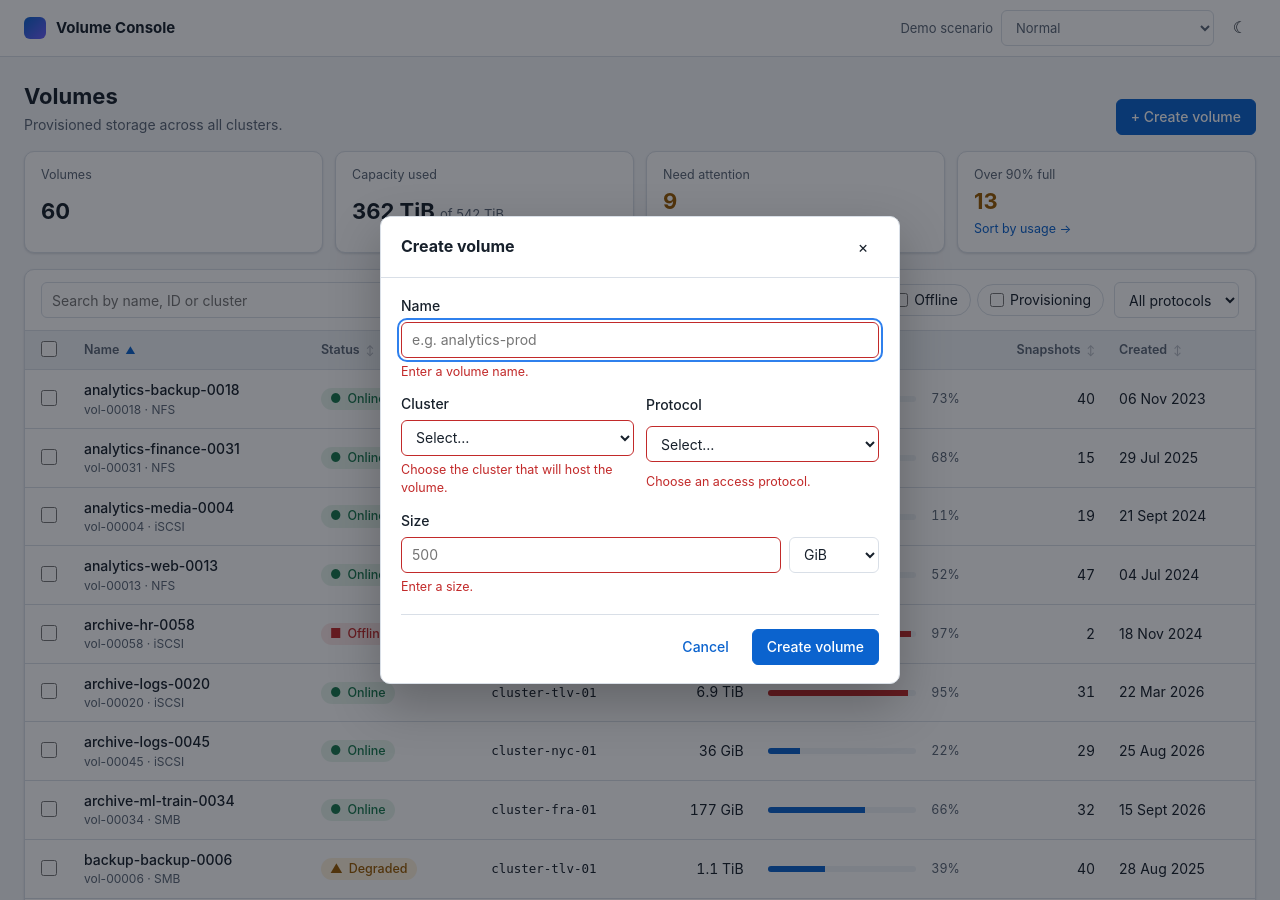
Volume Console › validates the create form, focuses the first error, then creates the volume
Earlier steps of the test are not shown.
Type "new-volume" into the field labelled "Name" at (640,340), box [401, 322, 879, 358]
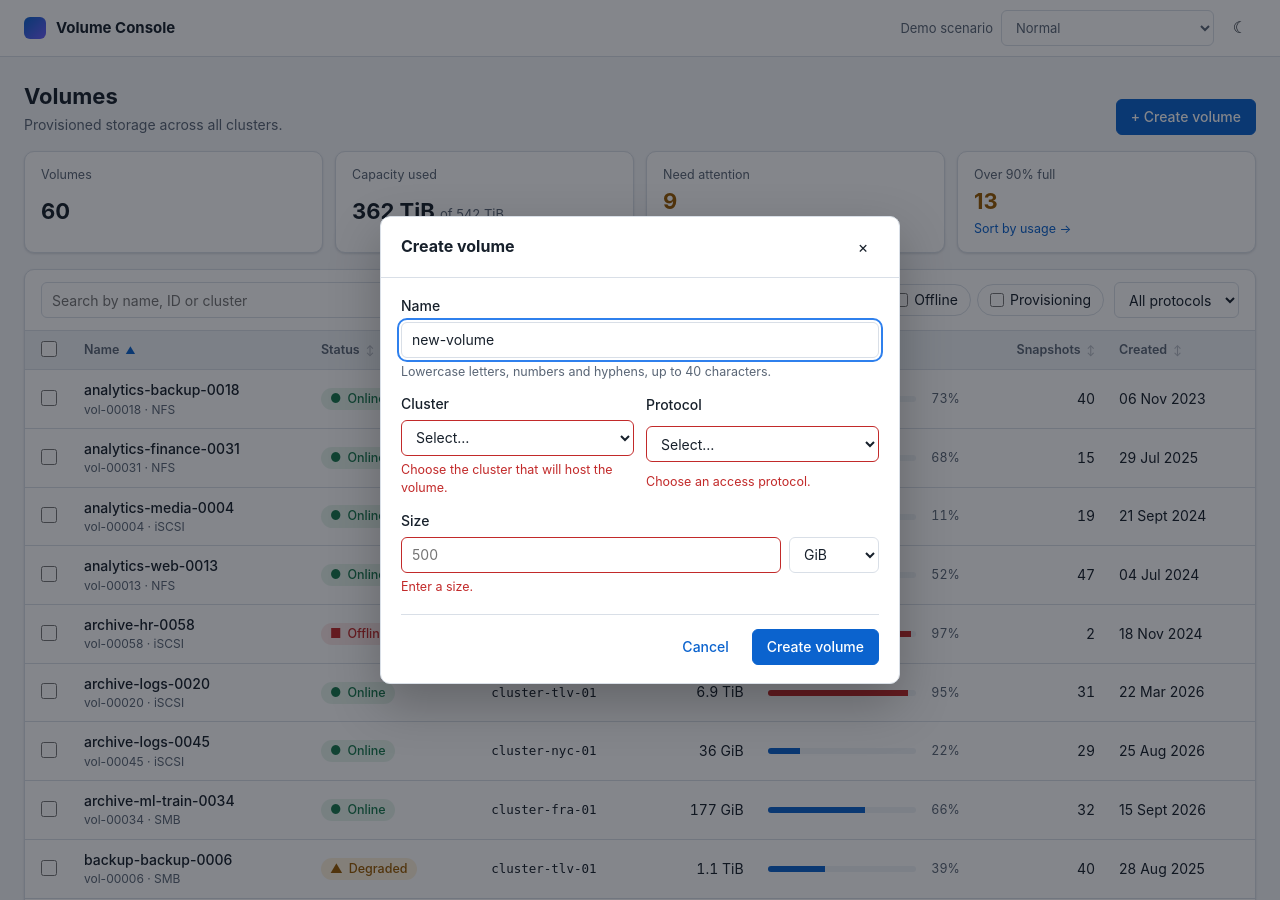
Select "cluster-tlv-01" in the dropdown labelled "Cluster" at (518,438), box [401, 420, 634, 456]
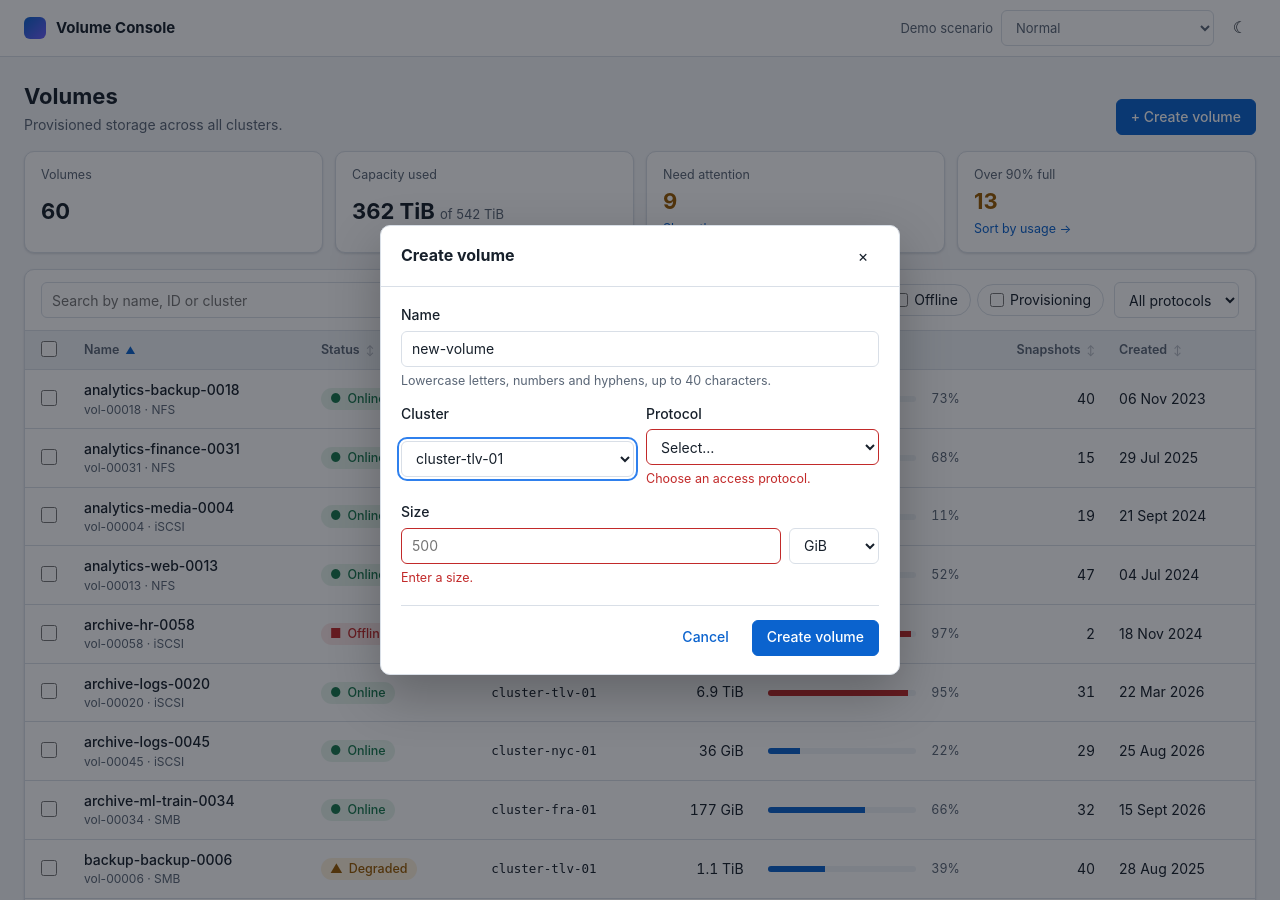
Select "SMB" in the dropdown labelled "Protocol" at (762,447), box [646, 429, 879, 465]
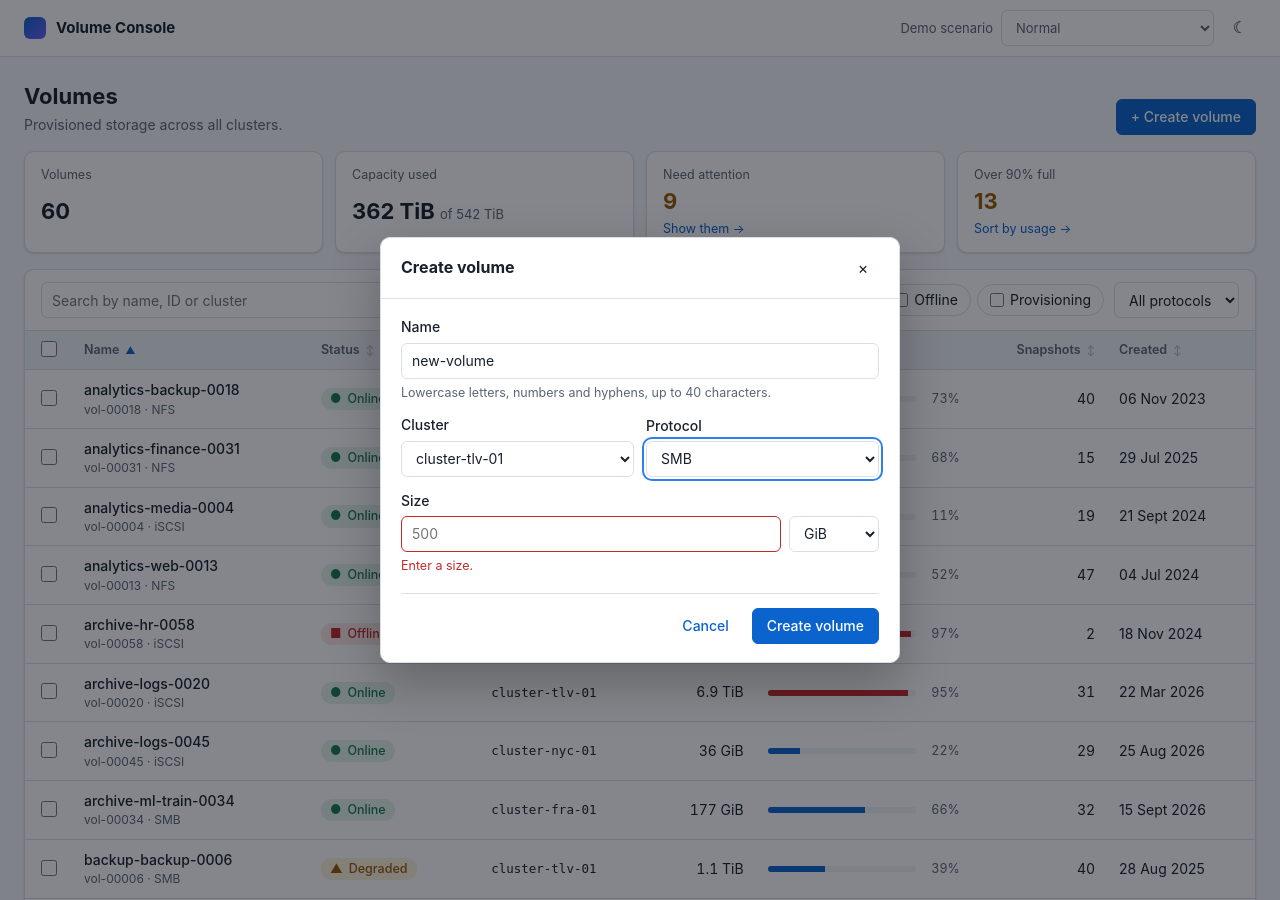
Type "2" into the field labelled "Size" at (591,534), box [401, 516, 781, 552]
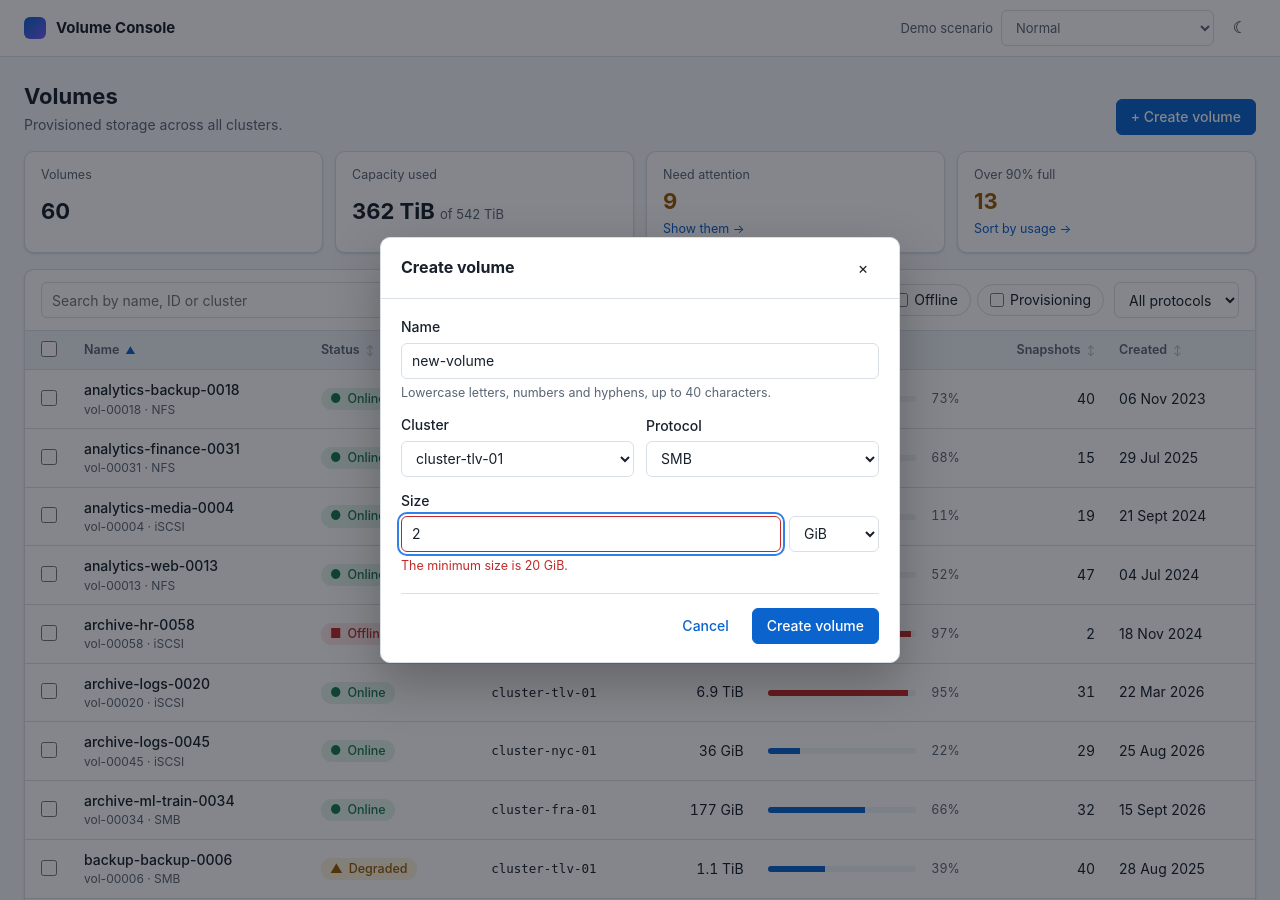
Select "TiB" in the dropdown named "Size unit" at (834,534), box [789, 516, 879, 552]
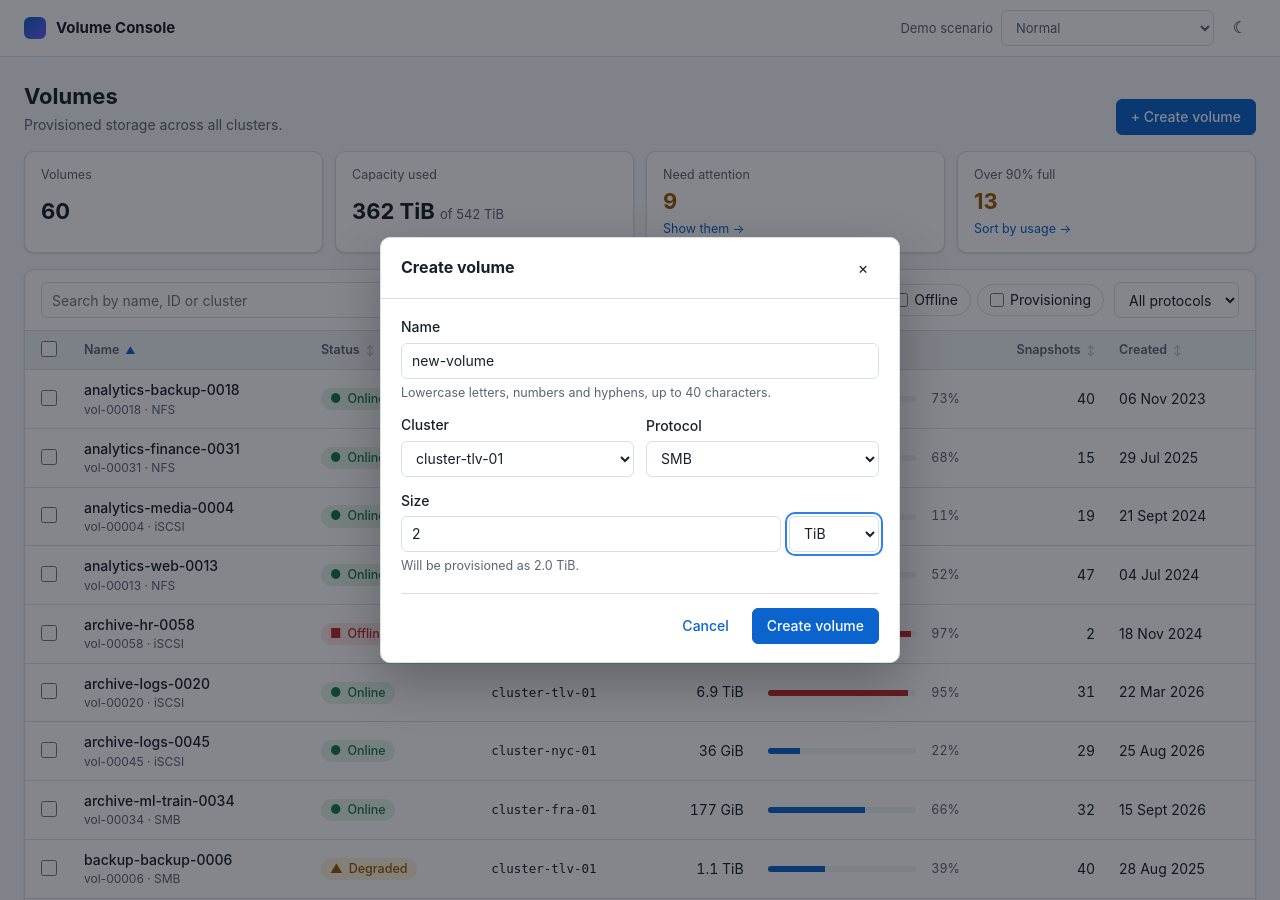
Click the button "Create volume" at (815,626), box [752, 608, 879, 644]
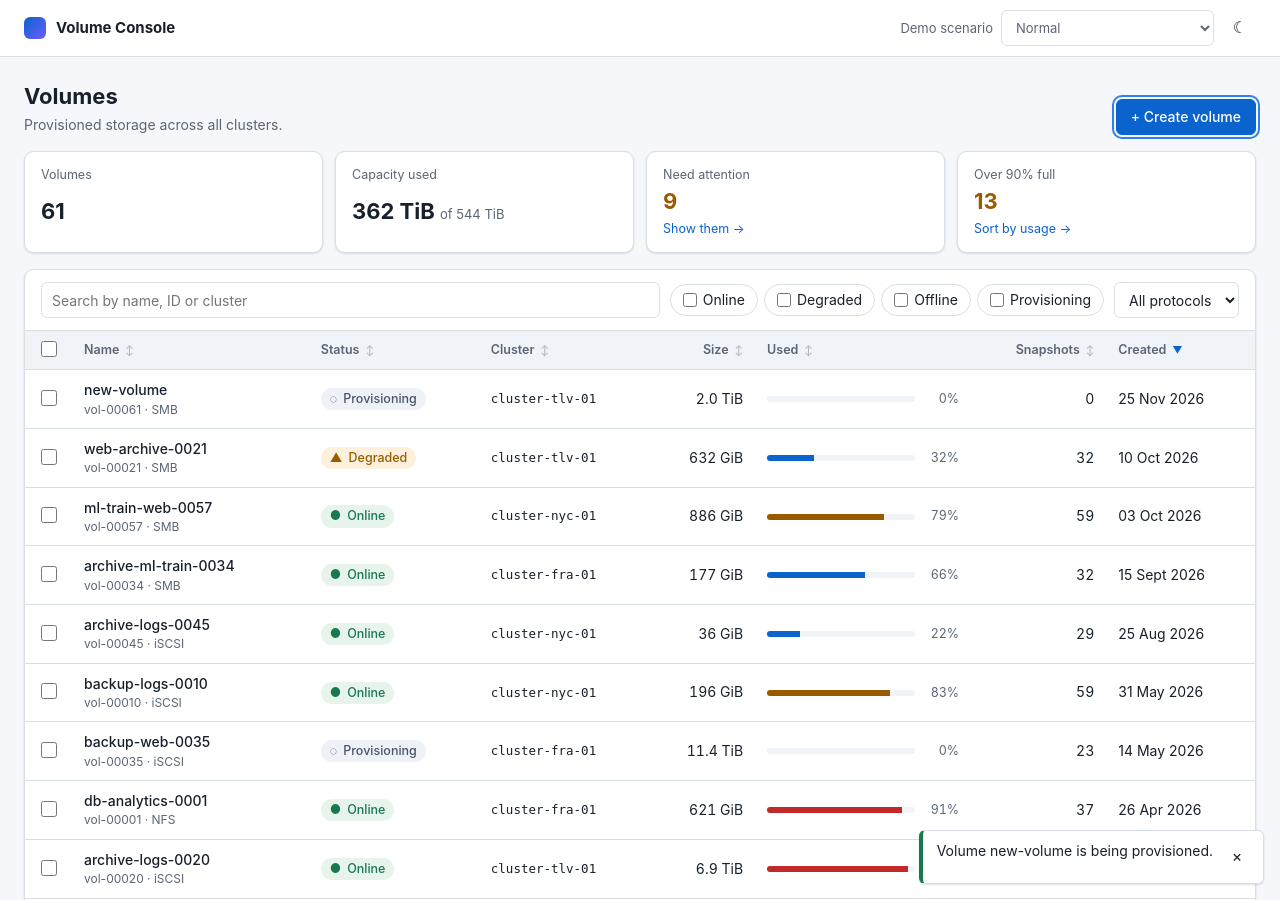
Expected: the text "Volume new-volume is being provisioned. ×" is shown, [919, 830, 1264, 884]
Expected: the text "new-volume" is shown, [84, 381, 167, 398]
